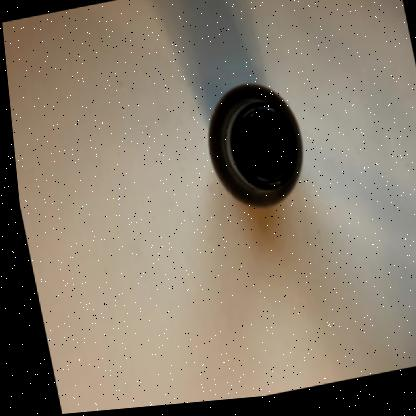Glass: (204, 87, 298, 210)
